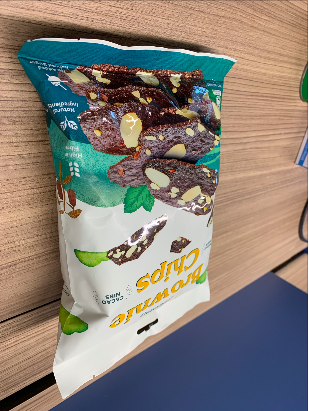Crackers_100-199g: (68, 79, 212, 306)
